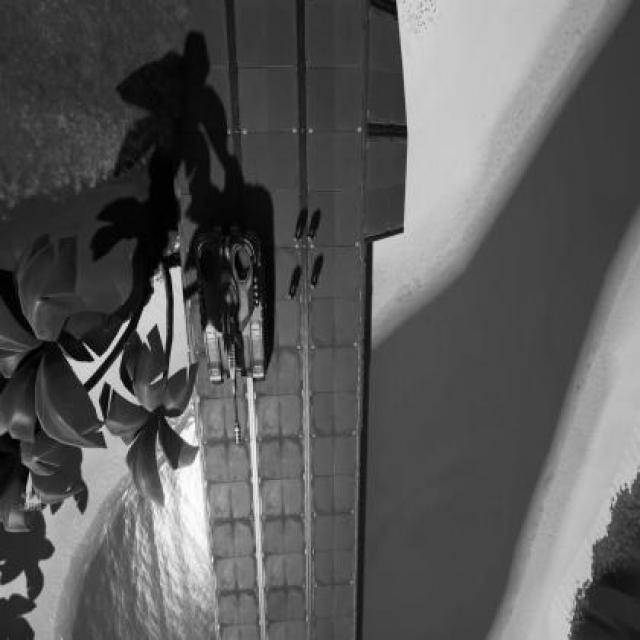tank: (194, 212, 269, 443)
